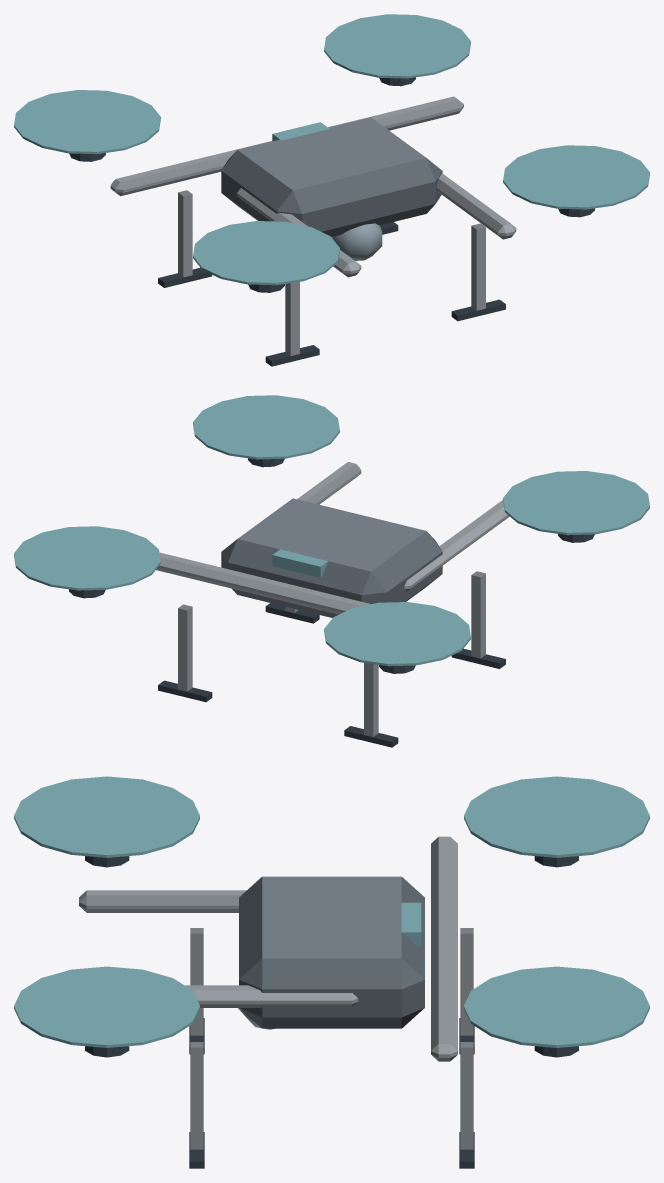
The model's file is tecnologia_drone.glb.
The picture shows the model from 3 angles, top to bottom: view 1: azimuth 30°, elevation 25°; view 2: azimuth 150°, elevation 25°; view 3: azimuth 270°, elevation 25°; orthographic projection. The views are drawn at different scales.
Bounding box in the file's own units: 1.64 × 0.529 × 1.64.
